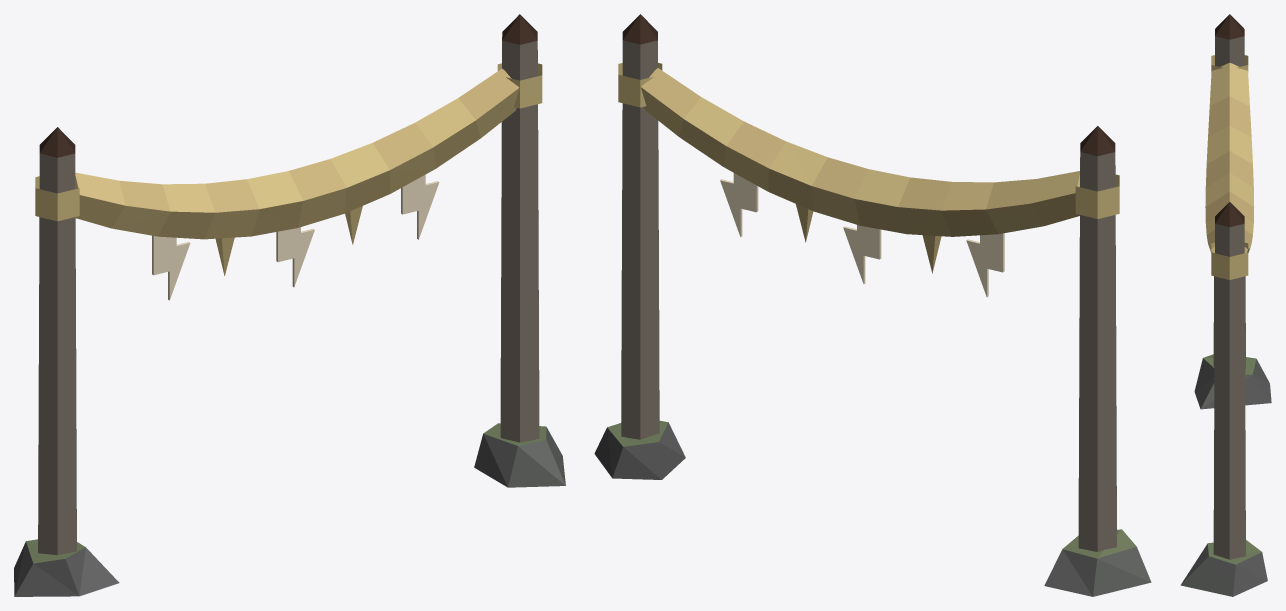
Rendered from falls_shrine_gate.fbx.
3 views of the same model, side by side, from view 1: azimuth 30°, elevation 25°; view 2: azimuth 150°, elevation 25°; view 3: azimuth 270°, elevation 25° (orthographic). The views are drawn at different scales.
Visible parts, largest first — view 1: falls_shrine_gate; view 2: falls_shrine_gate; view 3: falls_shrine_gate.
Part boxes in pixels (x1,y1,x2,y2): falls_shrine_gate: (14, 14, 565, 596); falls_shrine_gate: (594, 14, 1151, 596); falls_shrine_gate: (1180, 14, 1271, 596).
Size of the model in its own units: 3.13 by 2.44 by 0.5348.
